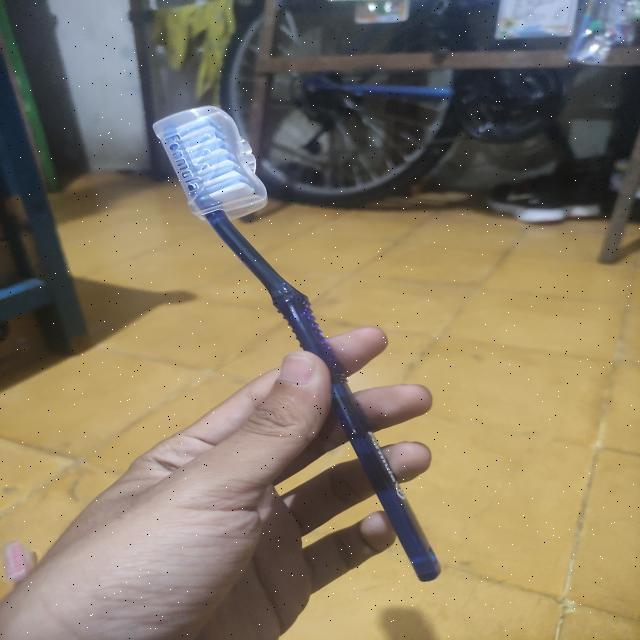toothbrush: (142, 88, 488, 600)
